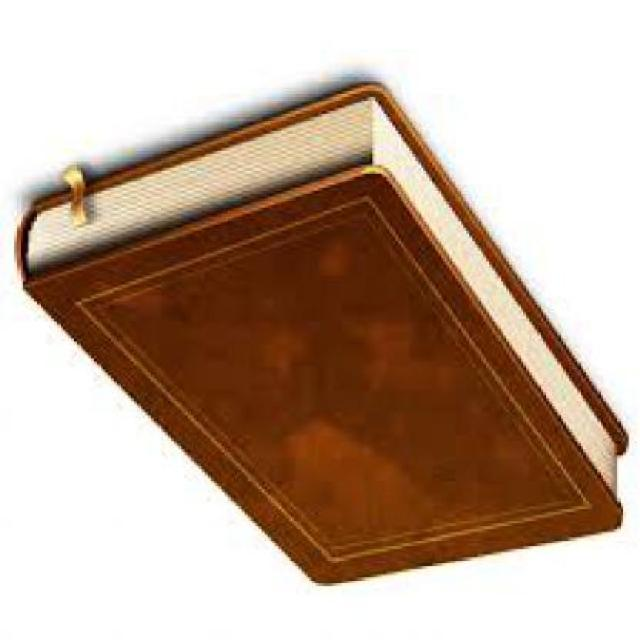PAPER: (14, 85, 626, 589)
